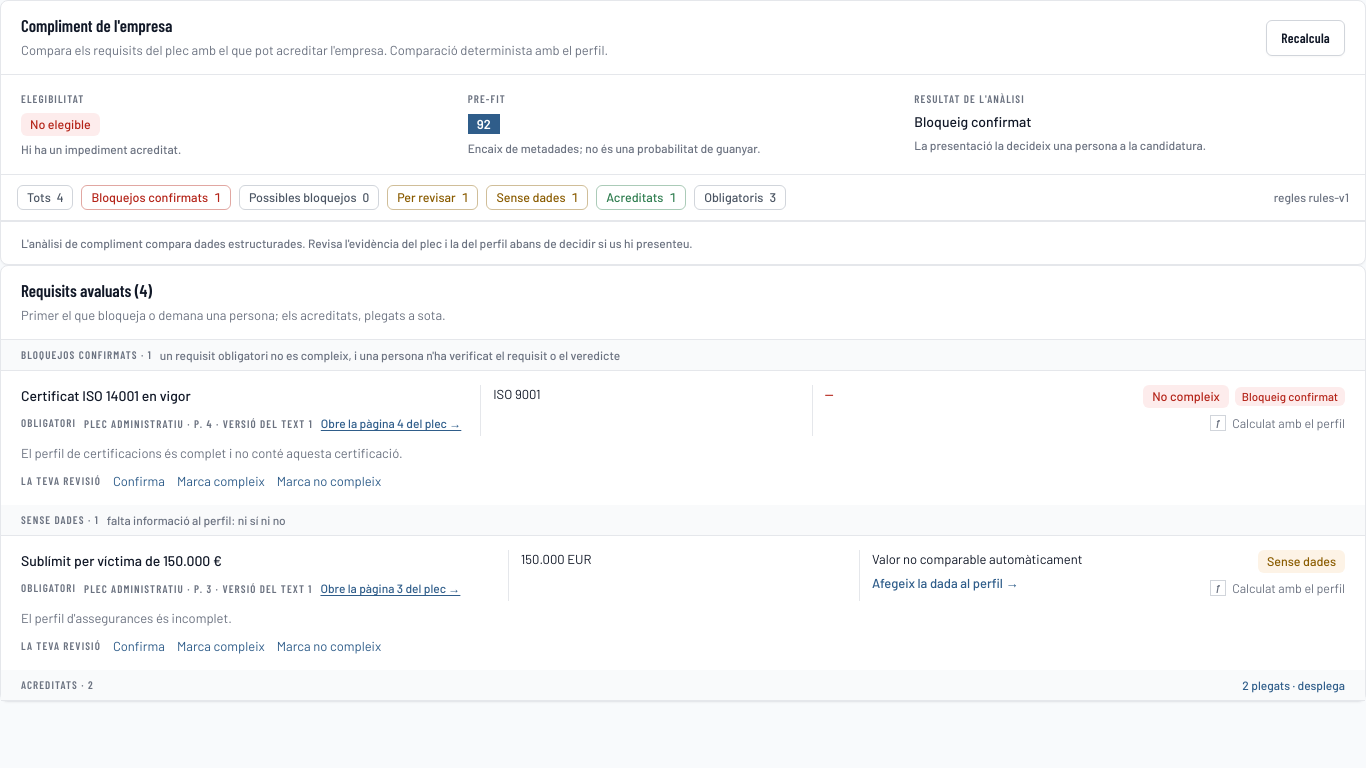
Test case: ComplianceSection › una revisió humana va signada, amb el resultat automàtic original a sota
This screenshot has width=1366, height=768.
# Els acreditats van plegats sota el que demana atenció: es despleguen.
Click the button "2 plegats · desplega".
click(1294, 685)  # box [1242,676,1345,694]
(page scrolled)
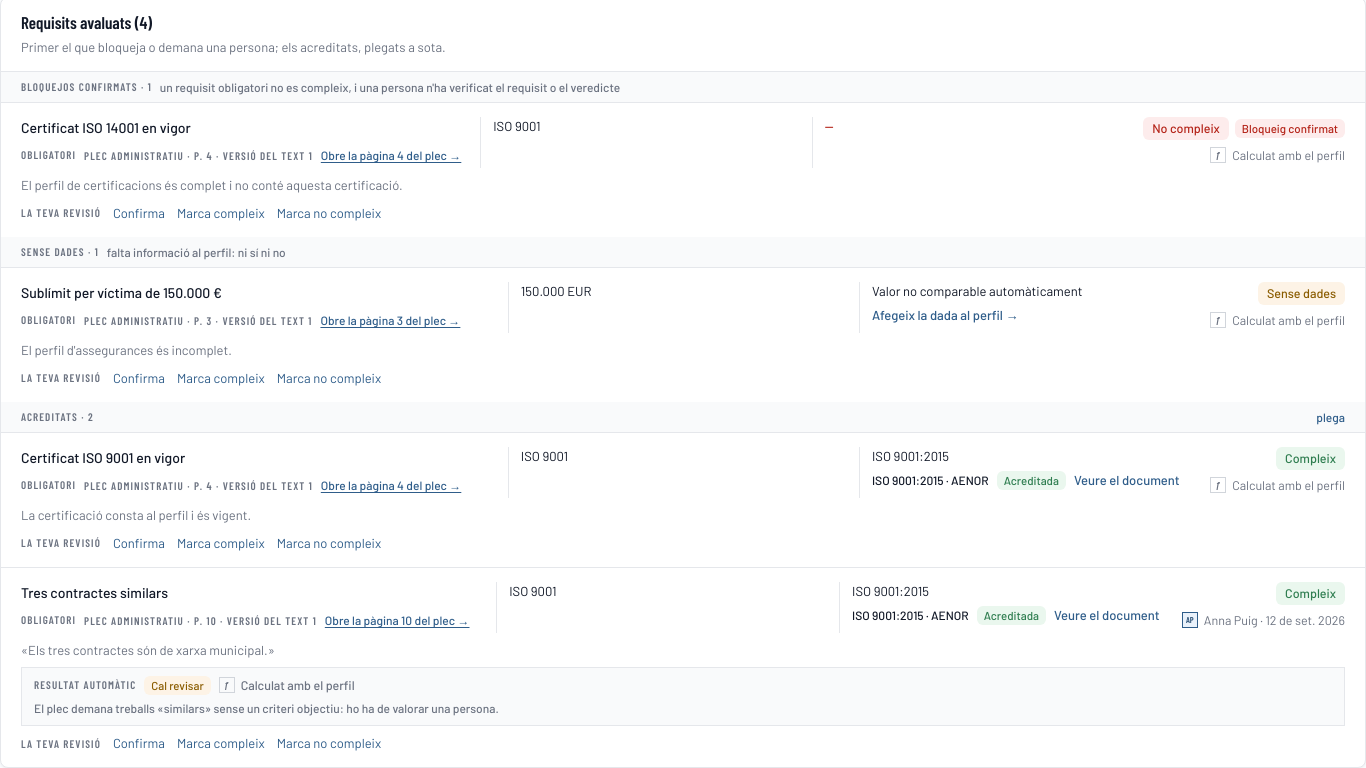
Expected: the text "AP" is shown, [1182,612,1198,628]
Expected: the list item "Tres contractes similars" shows "Anna Puig", [1204,612,1345,628]
Expected: the list item "Tres contractes similars" shows "Els tres contractes són de xarxa municipal.", [28,642,268,658]
